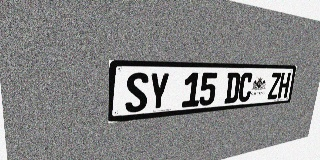1: (182, 73, 202, 108)
5: (199, 73, 218, 106)
C: (237, 73, 254, 102)
D: (224, 73, 241, 104)
H: (277, 73, 291, 99)
S: (125, 72, 149, 113)
Y: (148, 73, 170, 111)
Z: (267, 73, 281, 99)
